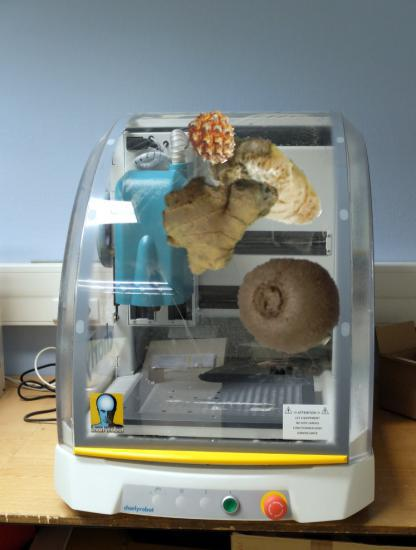Ginger: (205, 118, 330, 243), (161, 157, 285, 281)
Kiwi: (237, 251, 344, 358)
Pineapple: (184, 110, 240, 166)
